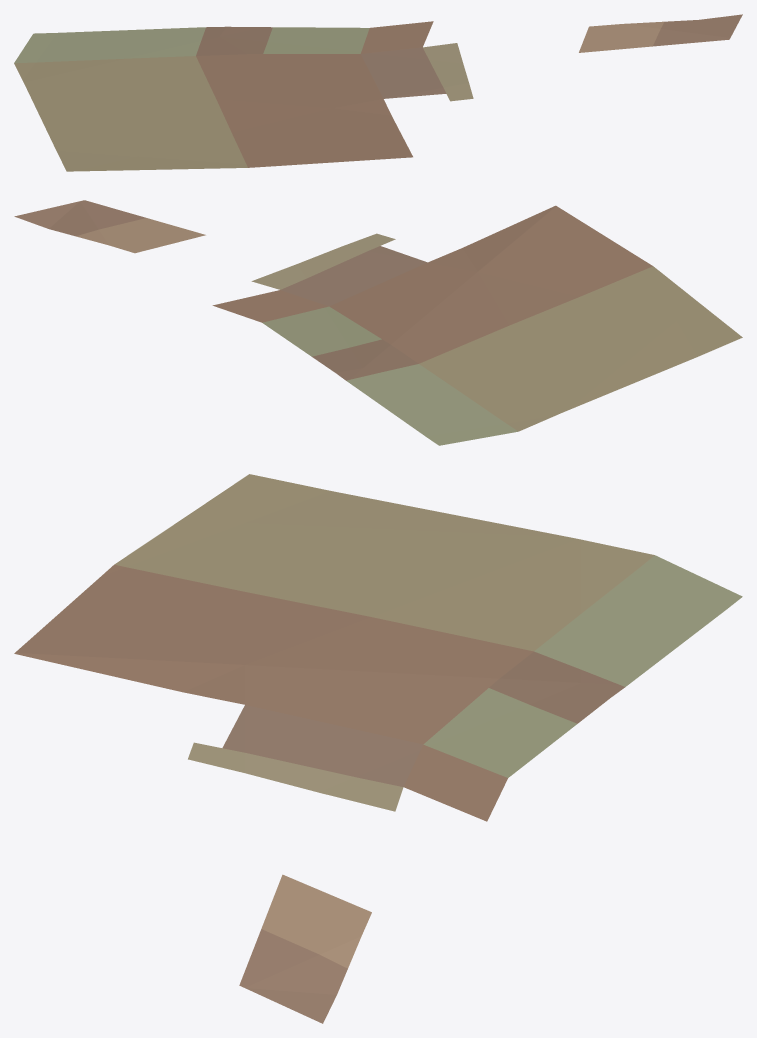
Rendered from farm_22_23_soil.glb.
The picture shows the model from 3 angles, top to bottom: view 1: azimuth 30°, elevation 25°; view 2: azimuth 150°, elevation 25°; view 3: azimuth 270°, elevation 25°; orthographic projection. The views are drawn at different scales.
Visible parts, largest first — view 1: geometry_0; view 2: geometry_0; view 3: geometry_0.
Boxes of the visible parts, x1,y1,x2,y2 form: geometry_0: [14, 14, 742, 171]; geometry_0: [14, 200, 742, 445]; geometry_0: [14, 474, 742, 1023].
Size of the model in its own units: 283 by 15.44 by 174.
